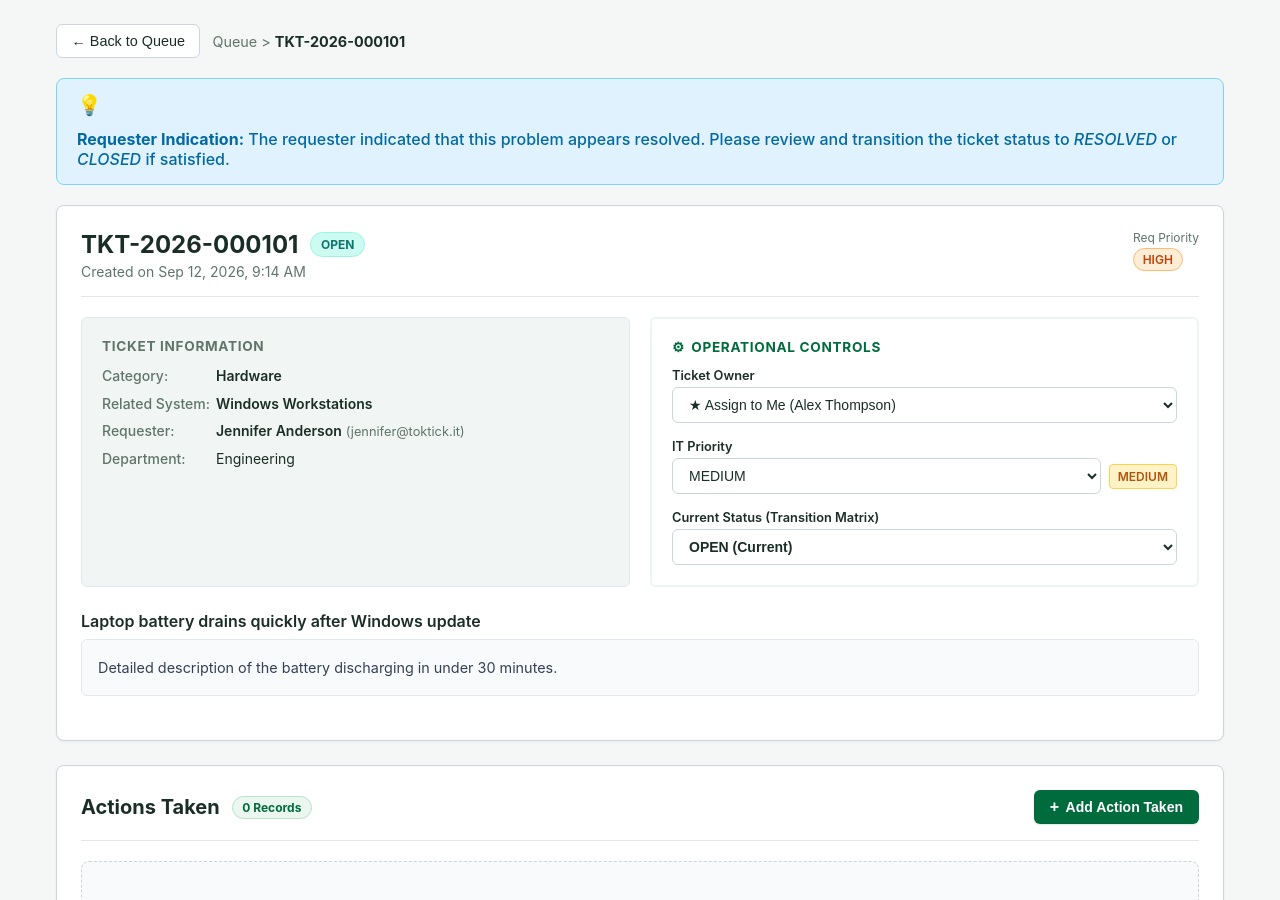
Test: UI-04 & UI-05: StaffTicketDetail Component Tests › UI-04: Operational Controls & Status Transition Matrix › allows reassigning ticket owner via Owner dropdown
// Change owner to Lisa Wong (id: 3)
Select "Lisa Wong (Staff)" in the dropdown with test id "ticket-owner-select" at [924, 405], box [672,387,1177,423]
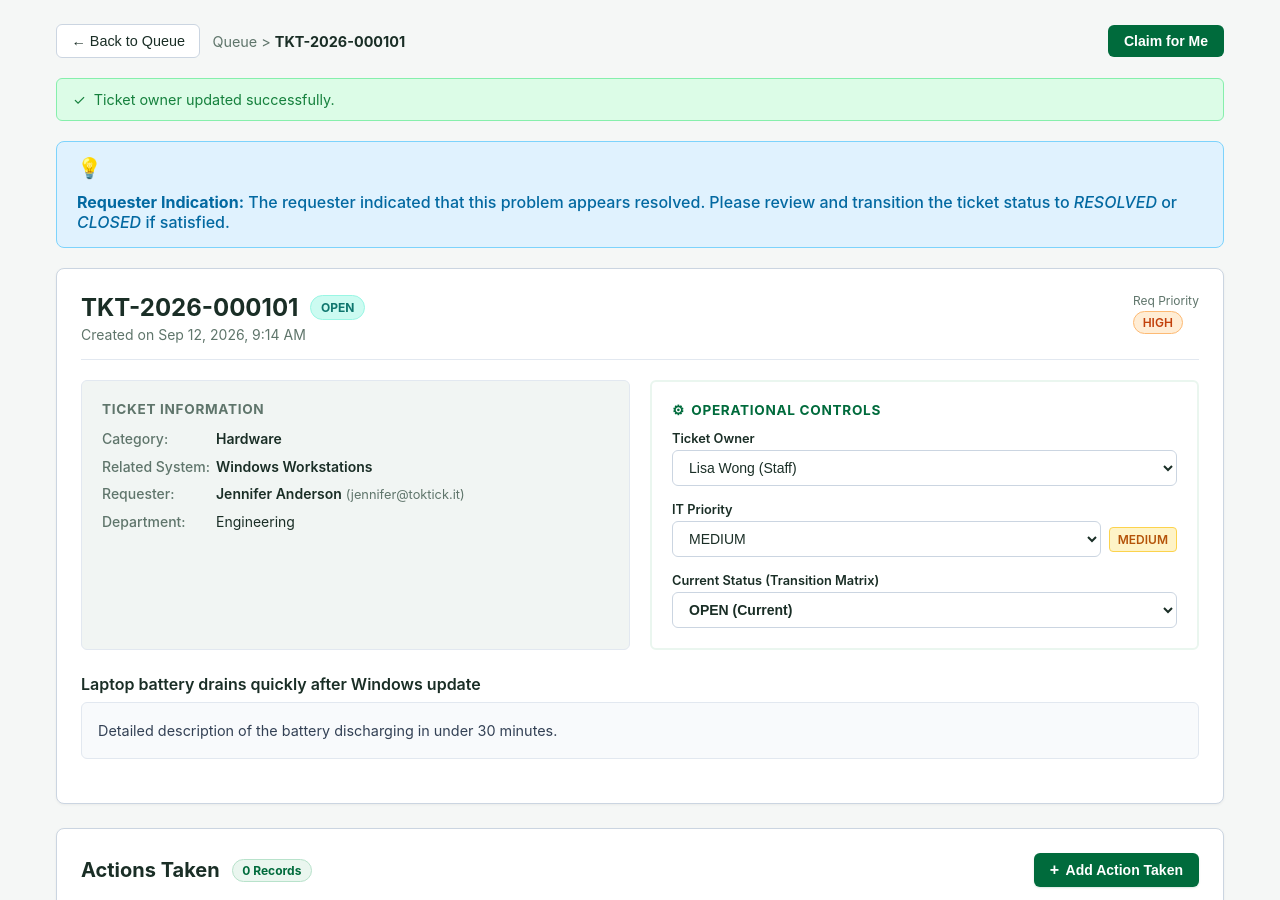
Expected: the text "Ticket owner updated successfully." is shown, [94,91,335,108]
